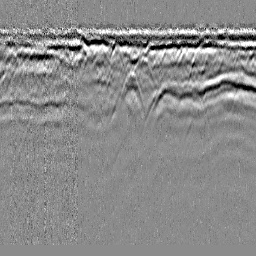cavity: (111, 69, 145, 118)
